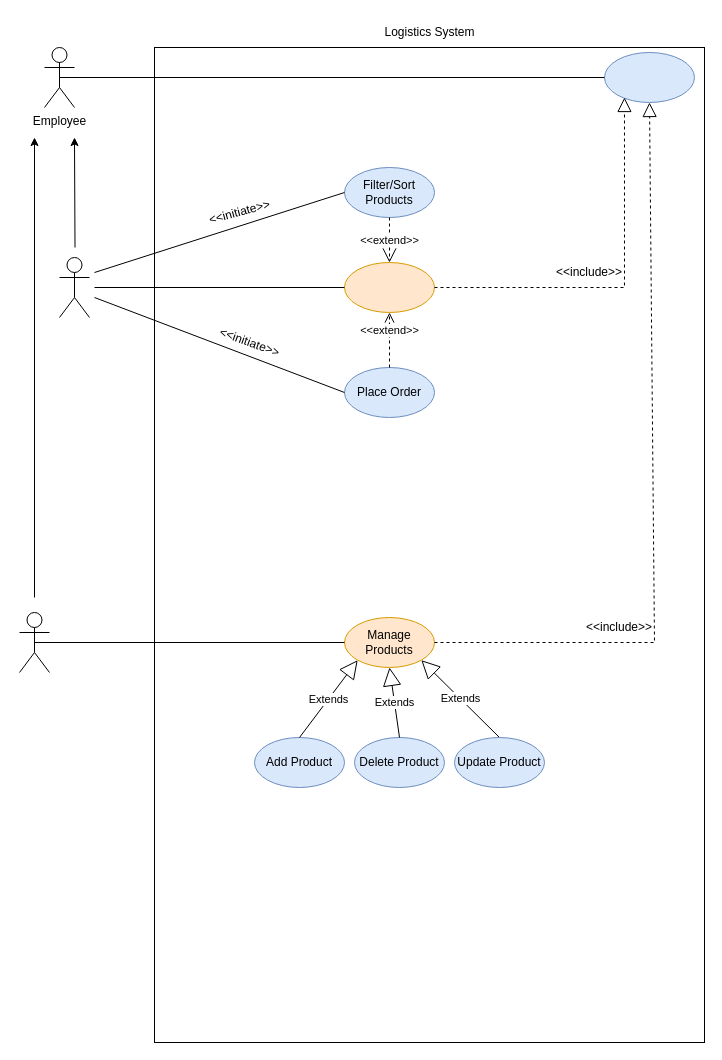
Image size: 722x1060. Some labels were removed from this diagram. Each missing label, with the box of its shape:
Admin: (18, 612, 50, 672)
Login: (604, 52, 694, 102)
Sales Agent: (58, 256, 90, 318)
View Products: (344, 262, 434, 312)
